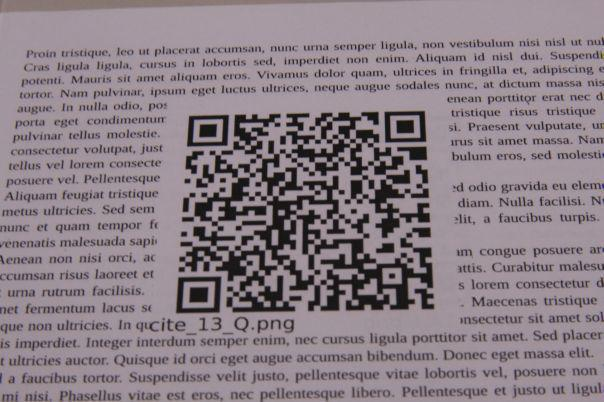qr_code: (176, 111, 435, 314)
